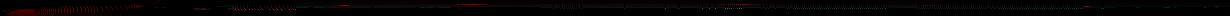Blue cone: (154, 7, 158, 8), (162, 7, 166, 8)
Yellow cone: (1214, 6, 1220, 8)
